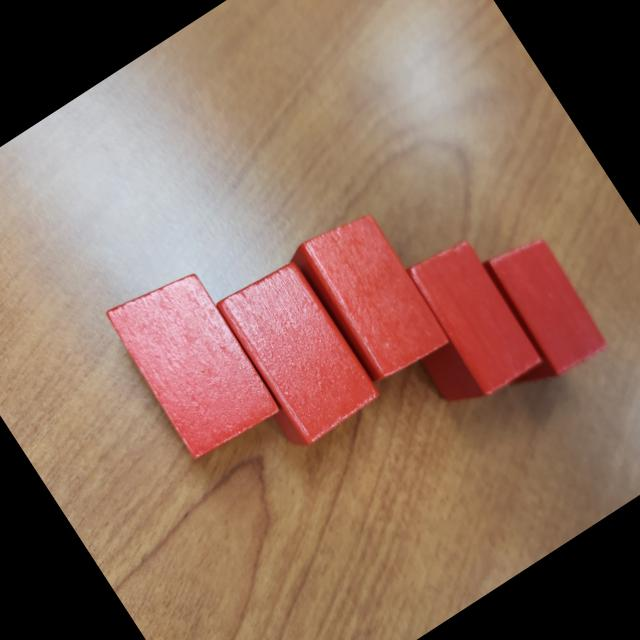red: (100, 260, 286, 466), (204, 252, 390, 456), (372, 232, 544, 418), (288, 201, 454, 388), (480, 226, 615, 382)
